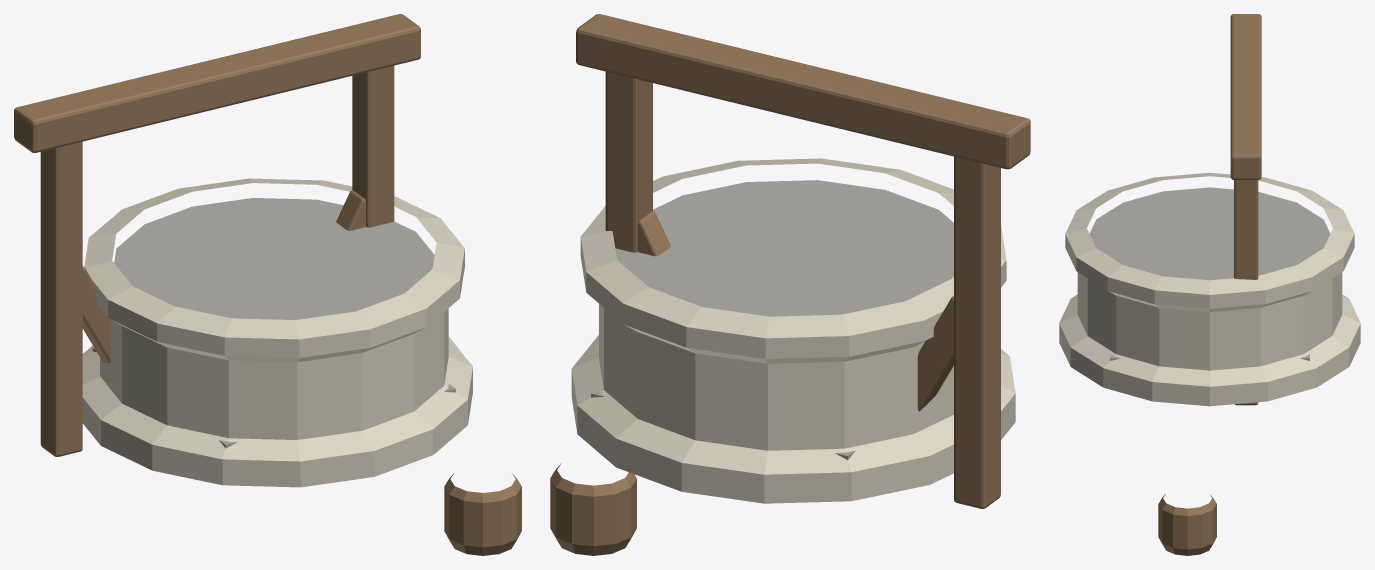
Rendered from monastery_cloister_well.glb.
3 renders of one model, left to right at view 1: azimuth 30°, elevation 25°; view 2: azimuth 150°, elevation 25°; view 3: azimuth 270°, elevation 25°, orthographic. The views are drawn at different scales.
Visible parts, largest first — view 1: world; view 2: world; view 3: world.
Boxes of the visible parts, x1=… form: world: x1=14, y1=14, x2=521, y2=555; world: x1=550, y1=14, x2=1030, y2=555; world: x1=1059, y1=14, x2=1360, y2=555.
Bounding box in the file's own units: 1.9 × 2 × 1.45.
